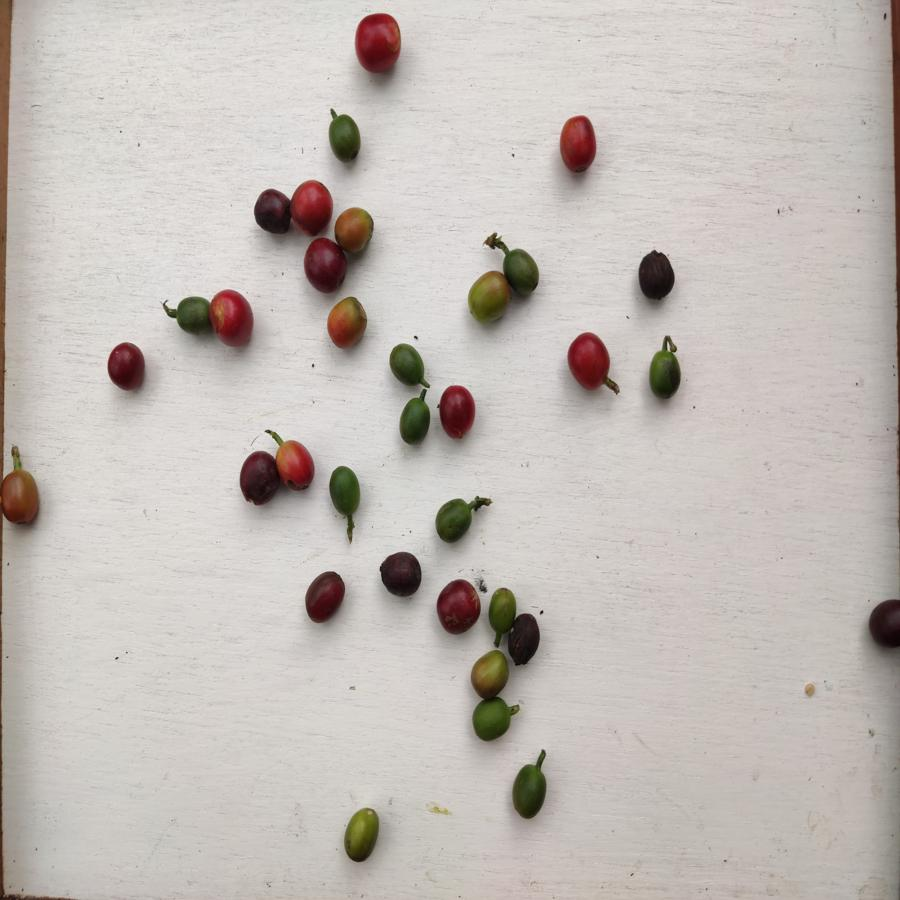Inmaduro: (510, 758, 550, 826), (433, 487, 476, 548), (342, 799, 381, 866), (470, 699, 519, 746), (646, 345, 684, 399), (329, 463, 361, 523), (388, 341, 427, 389), (396, 394, 432, 446), (327, 114, 365, 163), (509, 244, 541, 298), (172, 294, 211, 336), (486, 581, 514, 633)
Maduro: (564, 329, 616, 396), (555, 111, 601, 184), (208, 286, 256, 351), (355, 12, 401, 76), (291, 178, 335, 234), (275, 439, 319, 494), (437, 381, 477, 441)
Pinton: (325, 295, 371, 350), (2, 469, 41, 529), (469, 270, 508, 324), (335, 204, 377, 254), (472, 649, 510, 699)
Sobremaduro: (301, 569, 348, 625), (436, 579, 480, 636), (376, 549, 424, 600), (305, 236, 346, 295), (236, 449, 276, 506), (866, 595, 900, 660), (107, 342, 151, 392), (637, 251, 676, 305), (251, 188, 291, 237), (512, 612, 543, 671)
